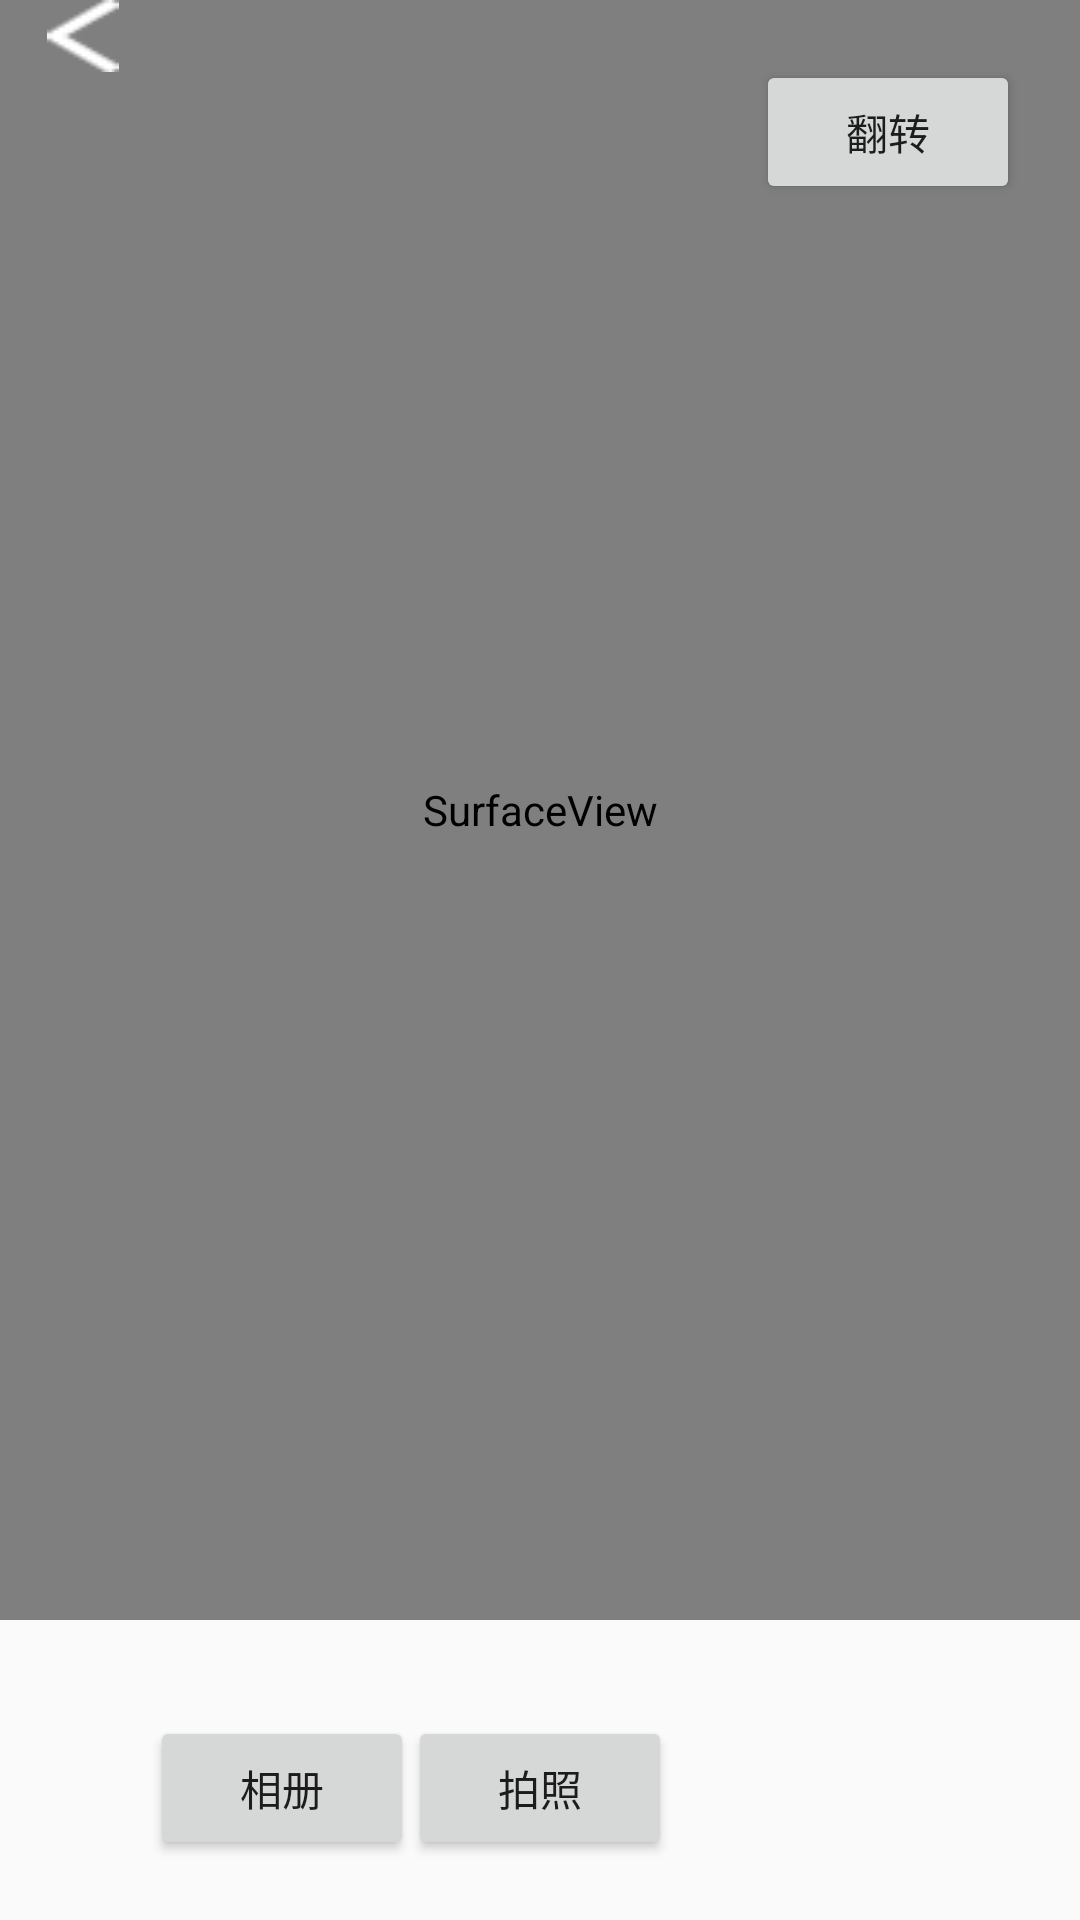

Icons on this 1080px×1920px Android screen, each with its box as (x1=x1, y1=y1, x2=x2, y2=y2):
back: (x1=47, y1=0, x2=119, y2=72)
